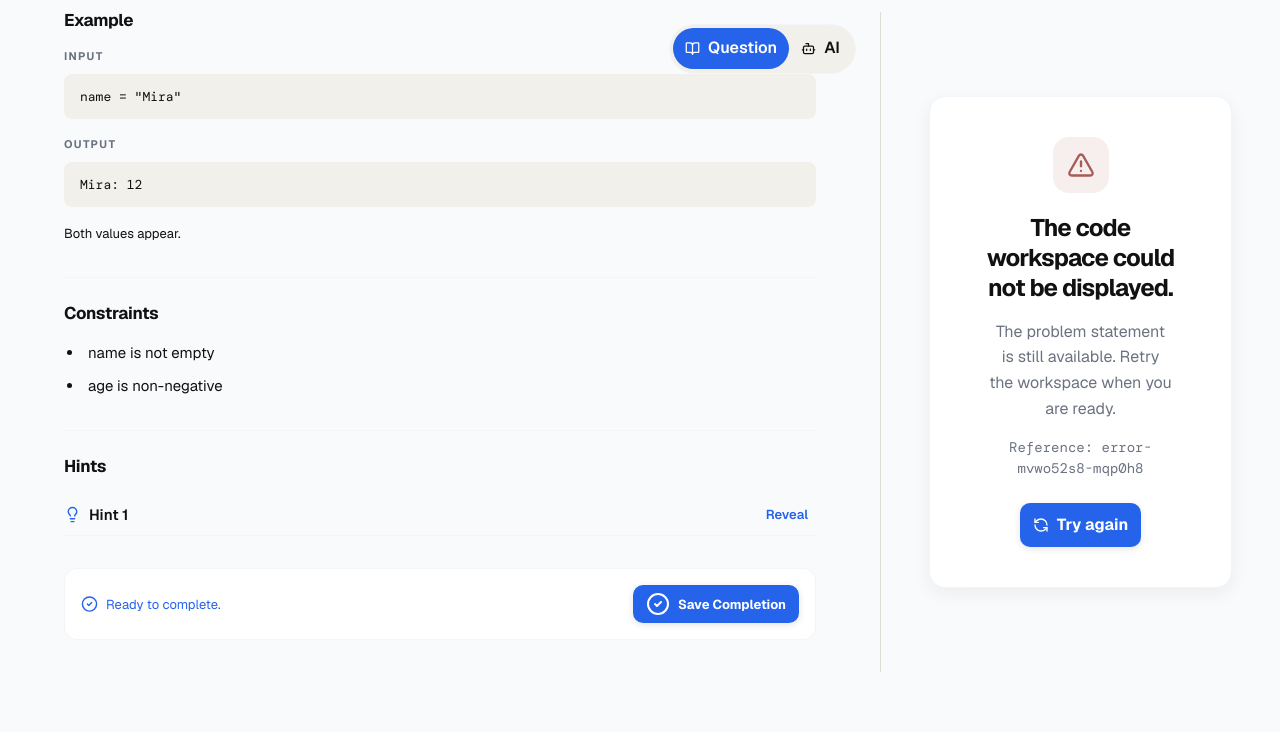
Test: Practice immersive coding workspace › reveals the single development placeholder through the real hint interaction
(page scrolled)
Click the button "Reveal". click: (787, 514)
box: [758, 496, 816, 533]
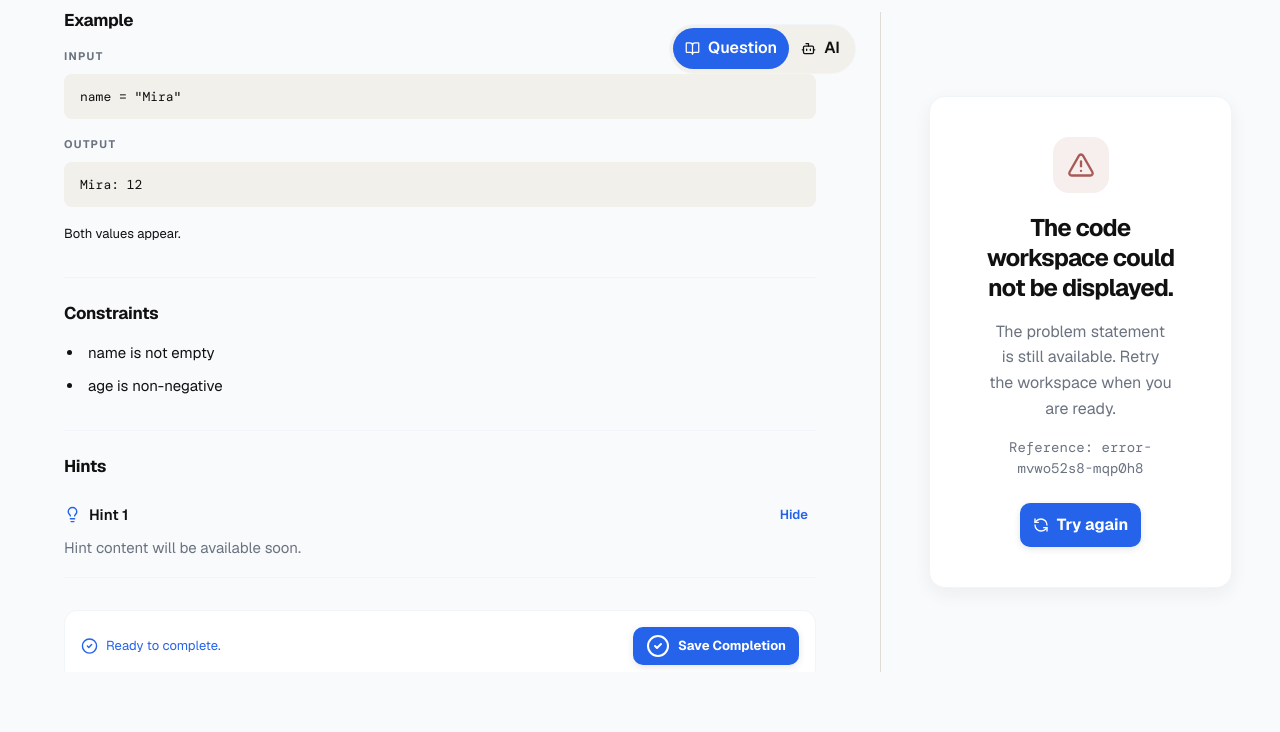
Check: the text "Hint content will be available soon." is shown, box [64, 538, 301, 558]
